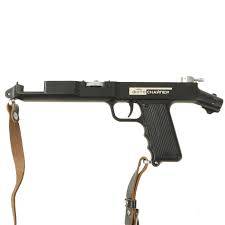gun: (5, 80, 224, 162)
